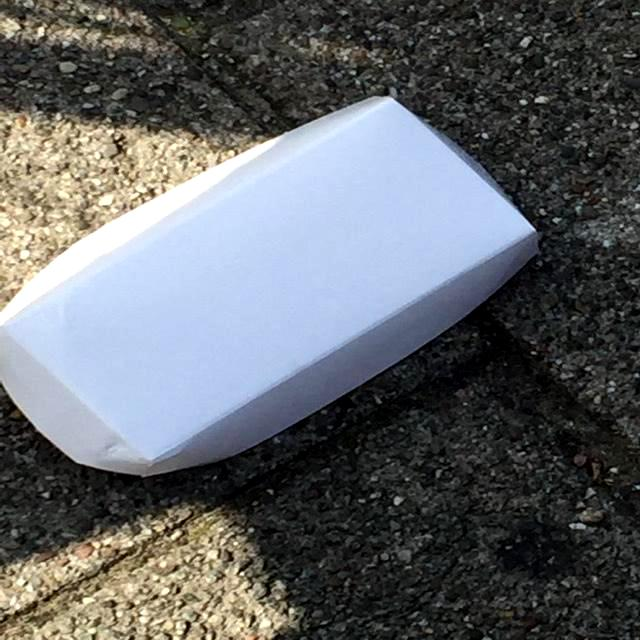Paper: (0, 85, 544, 483)
